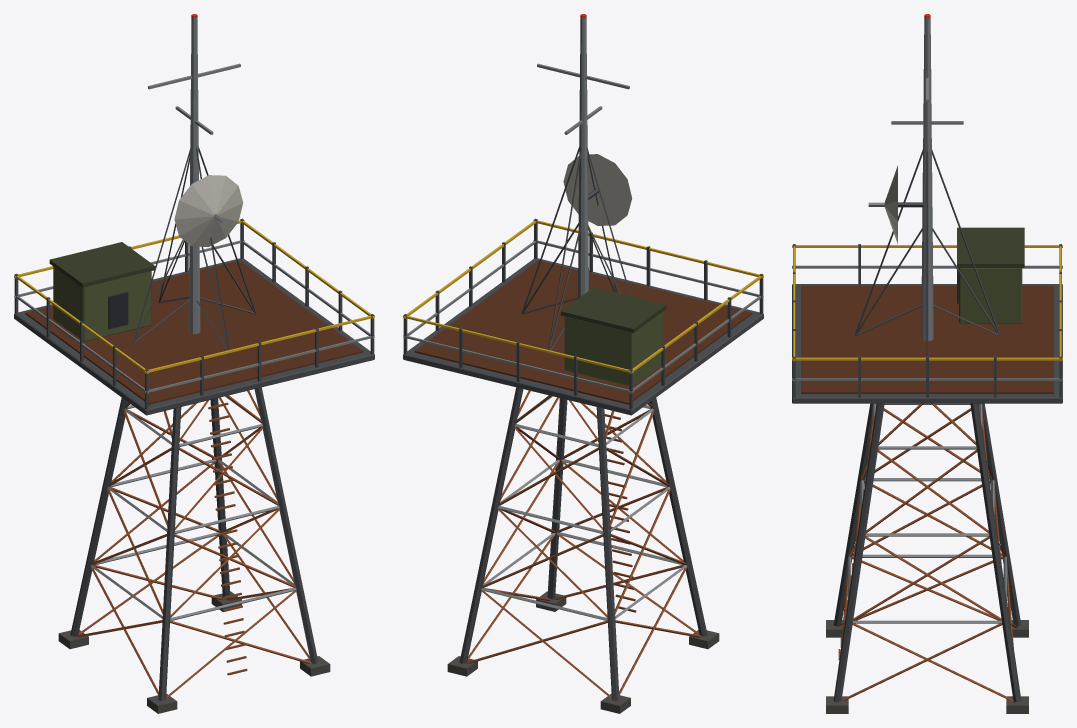
The model's file is lmk_mil_tower.fbx.
3 renders of one model, left to right at view 1: azimuth 30°, elevation 25°; view 2: azimuth 150°, elevation 25°; view 3: azimuth 270°, elevation 25°, orthographic. The views are drawn at different scales.
Visible parts, largest first — view 1: lmk_mil_tower; view 2: lmk_mil_tower; view 3: lmk_mil_tower.
Part boxes in pixels (<box>): lmk_mil_tower: <box>14,14,374,713</box>; lmk_mil_tower: <box>403,14,763,713</box>; lmk_mil_tower: <box>792,14,1062,713</box>.
Size of the model in its own units: 6 by 16.03 by 6.
